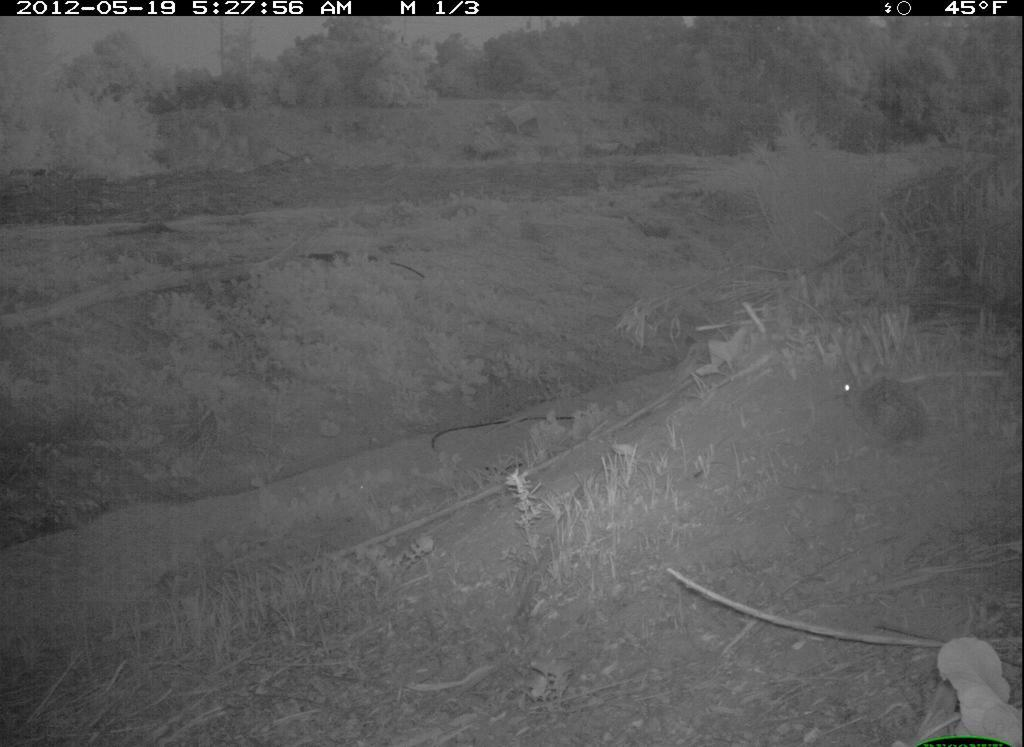rabbit: (839, 365, 948, 476)
